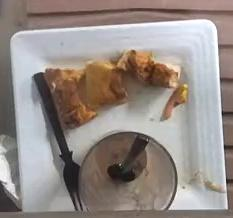pizza_crust: (45, 62, 127, 128), (116, 49, 176, 86)
